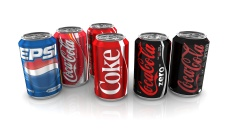can: (17, 31, 63, 100), (168, 30, 210, 98), (133, 31, 172, 102), (91, 33, 129, 102), (52, 26, 90, 88), (85, 22, 119, 78)
